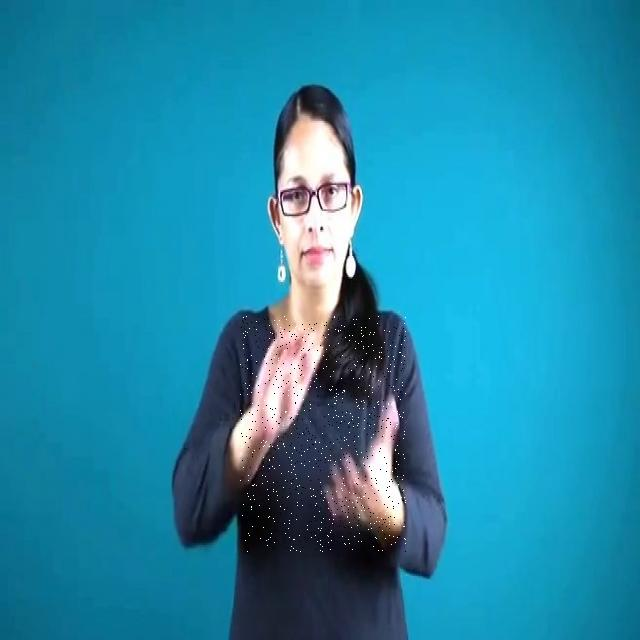burger: (240, 316, 406, 552)
